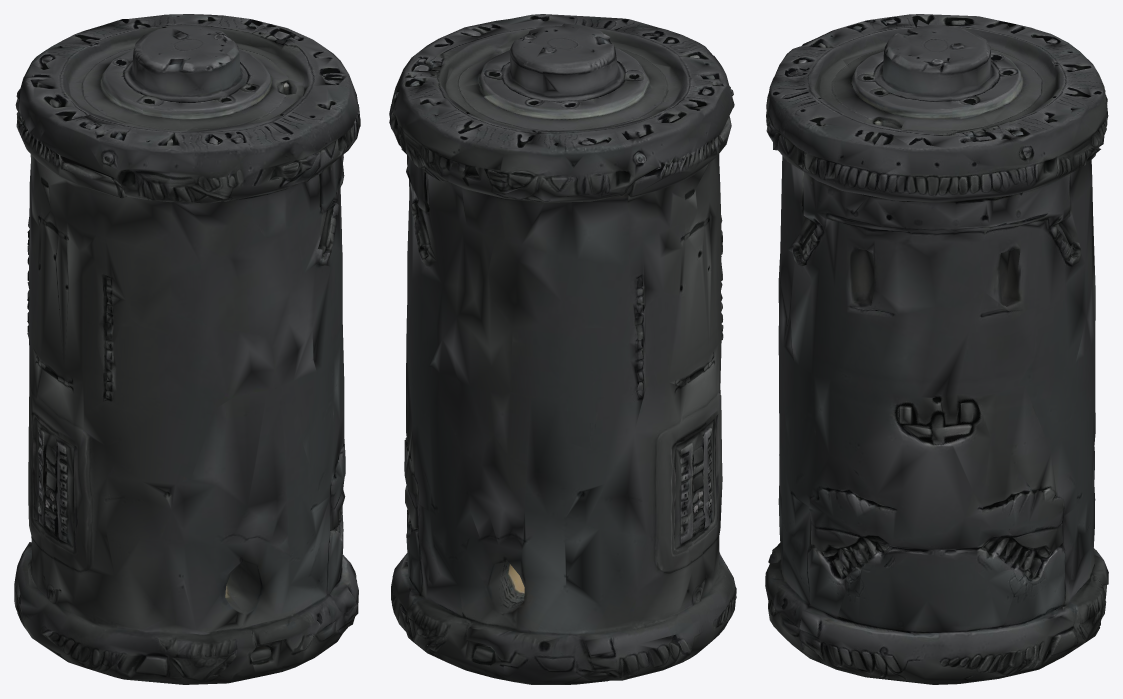
File: soso.glb
3 views of the same model, side by side, from view 1: azimuth 30°, elevation 25°; view 2: azimuth 150°, elevation 25°; view 3: azimuth 270°, elevation 25° (orthographic).
Parts seen in each view (by area): view 1: soso; view 2: soso; view 3: soso.
Part boxes in pixels (bbox=[...]): soso: bbox=[14, 14, 360, 684]; soso: bbox=[389, 14, 736, 684]; soso: bbox=[765, 14, 1108, 684].
Bounding box in the file's own units: 0.5263 × 0.9772 × 0.528.
Materials: 1 (1 with a texture image).
